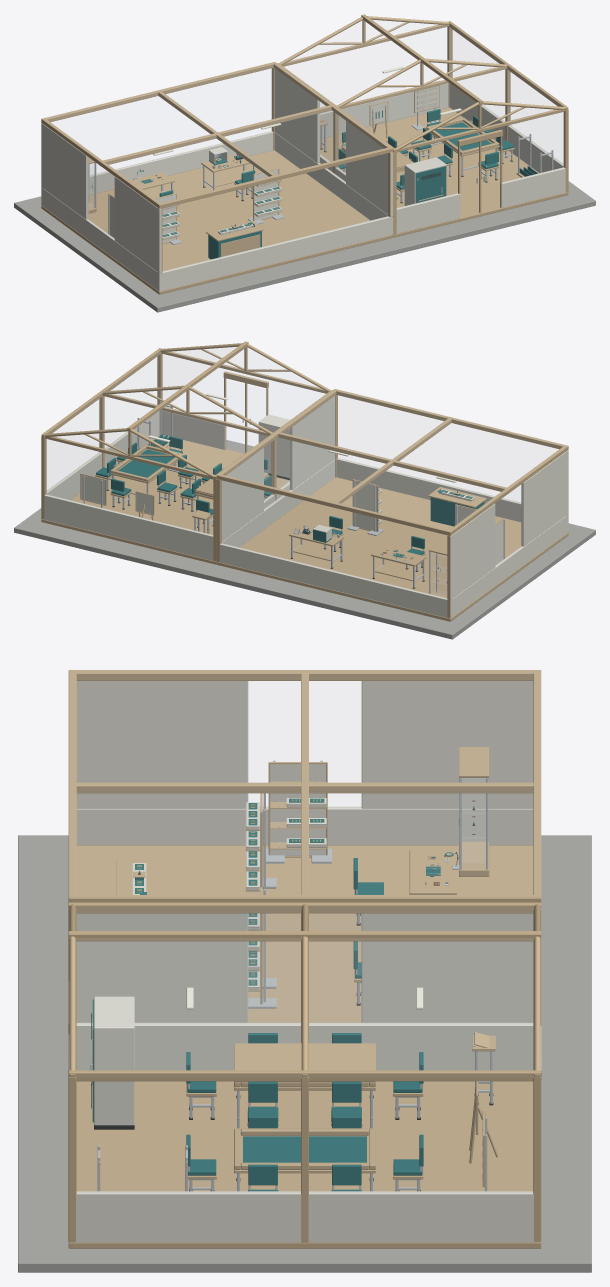
Rendered from tabletop-hobby-store-and-club-miniature--35bf9d17-starter-scene__31615.glb.
The picture shows the model from 3 angles, top to bottom: view 1: azimuth 30°, elevation 25°; view 2: azimuth 150°, elevation 25°; view 3: azimuth 270°, elevation 25°; orthographic projection. The views are drawn at different scales.
Visible parts, largest first — view 1: 001-roofed-hobby-shop/1, 001-roofed-hobby-shop/0, 002-club-gaming-room-shell/0, 001-roofed-hobby-shop/2, 002-club-gaming-room-shell/2, 000-hobby-club-floor-base/0, 002-club-gaming-room-shell/1, 027-club-booking-counter/1, 025-terrain-storage-cabinet/2, 025-terrain-storage-cabinet/1, 077-cutting-workstation/0, 012-recessed-gaming-table/0 (+4 smaller); view 2: 001-roofed-hobby-shop/1, 001-roofed-hobby-shop/0, 002-club-gaming-room-shell/0, 001-roofed-hobby-shop/2, 002-club-gaming-room-shell/2, 000-hobby-club-floor-base/0, 002-club-gaming-room-shell/1, 025-terrain-storage-cabinet/1, 076-cutting-workstation/0, 050-retail-peg-display/1, 077-cutting-workstation/0, 012-recessed-gaming-table/3 (+5 smaller); view 3: 001-roofed-hobby-shop/1, 002-club-gaming-room-shell/0, 000-hobby-club-floor-base/0, 001-roofed-hobby-shop/0, 002-club-gaming-room-shell/2, 002-club-gaming-room-shell/1, 001-roofed-hobby-shop/2, 025-terrain-storage-cabinet/1, 026-removable-table-topper/0, 012-recessed-gaming-table/3, 012-recessed-gaming-table/0, 063-retail-peg-display/1 (+7 smaller).
Part boxes in pixels (x1=…): 001-roofed-hobby-shop/1: x1=41, y1=69, x2=393, y2=291; 001-roofed-hobby-shop/0: x1=41, y1=62, x2=393, y2=294; 002-club-gaming-room-shell/0: x1=277, y1=14, x2=568, y2=237; 001-roofed-hobby-shop/2: x1=51, y1=69, x2=345, y2=182; 002-club-gaming-room-shell/2: x1=285, y1=20, x2=562, y2=163; 000-hobby-club-floor-base/0: x1=14, y1=181, x2=595, y2=312; 002-club-gaming-room-shell/1: x1=320, y1=83, x2=565, y2=233; 027-club-booking-counter/1: x1=206, y1=220, x2=264, y2=256; 025-terrain-storage-cabinet/2: x1=415, y1=166, x2=446, y2=203; 025-terrain-storage-cabinet/1: x1=404, y1=157, x2=446, y2=205; 077-cutting-workstation/0: x1=201, y1=152, x2=256, y2=187; 012-recessed-gaming-table/0: x1=426, y1=117, x2=499, y2=156; 001-roofed-hobby-shop/1: x1=220, y1=396, x2=568, y2=618; 001-roofed-hobby-shop/0: x1=216, y1=389, x2=568, y2=621; 002-club-gaming-room-shell/0: x1=41, y1=341, x2=332, y2=564; 001-roofed-hobby-shop/2: x1=264, y1=396, x2=558, y2=509; 002-club-gaming-room-shell/2: x1=47, y1=347, x2=324, y2=490; 000-hobby-club-floor-base/0: x1=14, y1=440, x2=595, y2=639; 002-club-gaming-room-shell/1: x1=44, y1=410, x2=289, y2=560; 025-terrain-storage-cabinet/1: x1=258, y1=414, x2=290, y2=477; 076-cutting-workstation/0: x1=371, y1=546, x2=426, y2=581; 050-retail-peg-display/1: x1=353, y1=481, x2=377, y2=531; 077-cutting-workstation/0: x1=289, y1=526, x2=344, y2=561; 012-recessed-gaming-table/3: x1=118, y1=449, x2=175, y2=477; 001-roofed-hobby-shop/1: x1=76, y1=681, x2=533, y2=1022; 002-club-gaming-room-shell/0: x1=68, y1=902, x2=541, y2=1248; 000-hobby-club-floor-base/0: x1=18, y1=835, x2=591, y2=1272; 001-roofed-hobby-shop/0: x1=68, y1=670, x2=541, y2=1022; 002-club-gaming-room-shell/2: x1=77, y1=914, x2=532, y2=1023; 002-club-gaming-room-shell/1: x1=68, y1=1022, x2=541, y2=1242; 001-roofed-hobby-shop/2: x1=249, y1=681, x2=360, y2=807; 025-terrain-storage-cabinet/1: x1=94, y1=996, x2=134, y2=1125; 026-removable-table-topper/0: x1=234, y1=1043, x2=375, y2=1082; 012-recessed-gaming-table/3: x1=243, y1=1136, x2=366, y2=1162; 012-recessed-gaming-table/0: x1=234, y1=1128, x2=375, y2=1173; 063-retail-peg-display/1: x1=270, y1=764, x2=325, y2=855.
Bounding box in the file's own units: 15 × 3.93 × 8.5.
